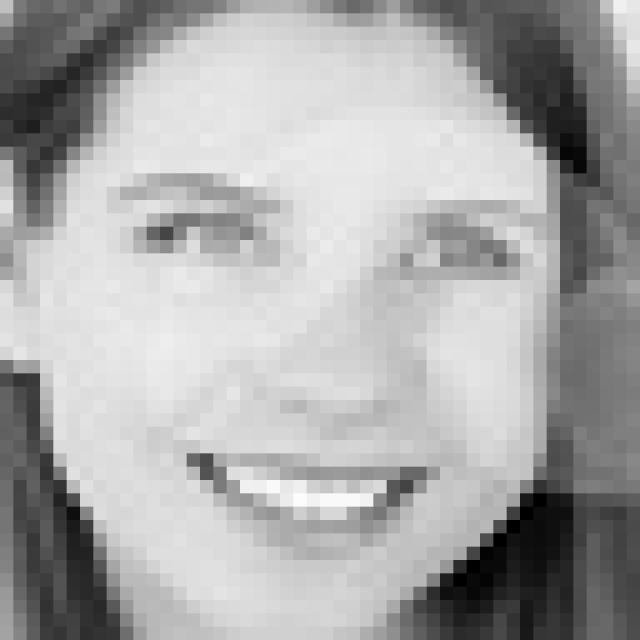happy: (111, 166, 560, 568)
